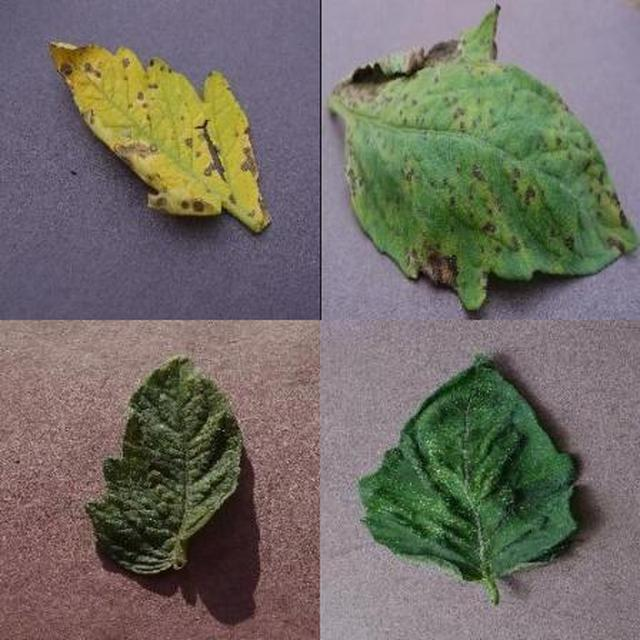Septoria Leaf: (218, 196, 640, 640)
